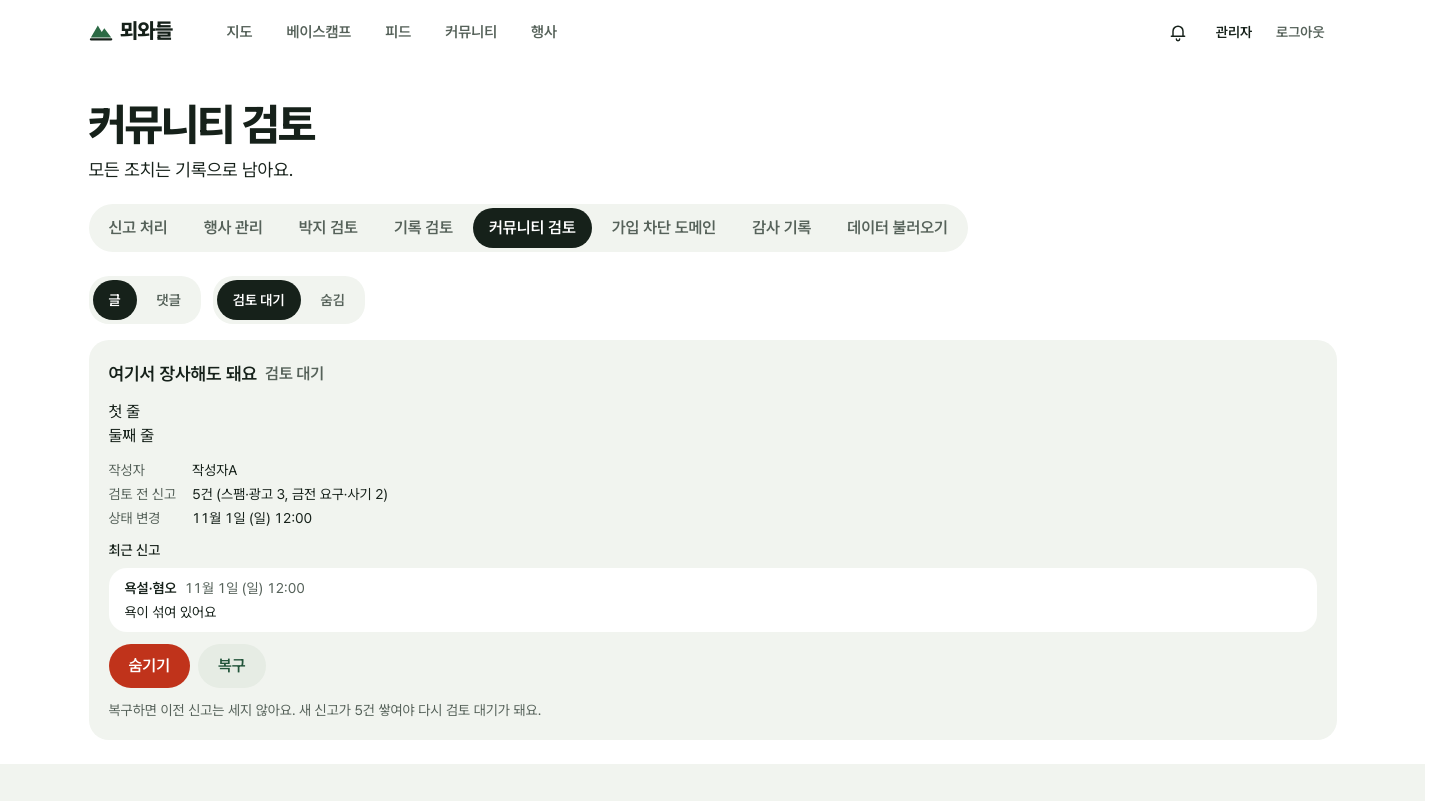
Test case: 관리자 커뮤니티 검토 › 달린 글을 작성자가 지웠으면 링크 없이 그렇게 알린다
The image size is (1440, 801).
What coordinates should you click on to do the following:
click the button "댓글"
I would click on:
 (169, 300)
Its box is [141,280,197,320].
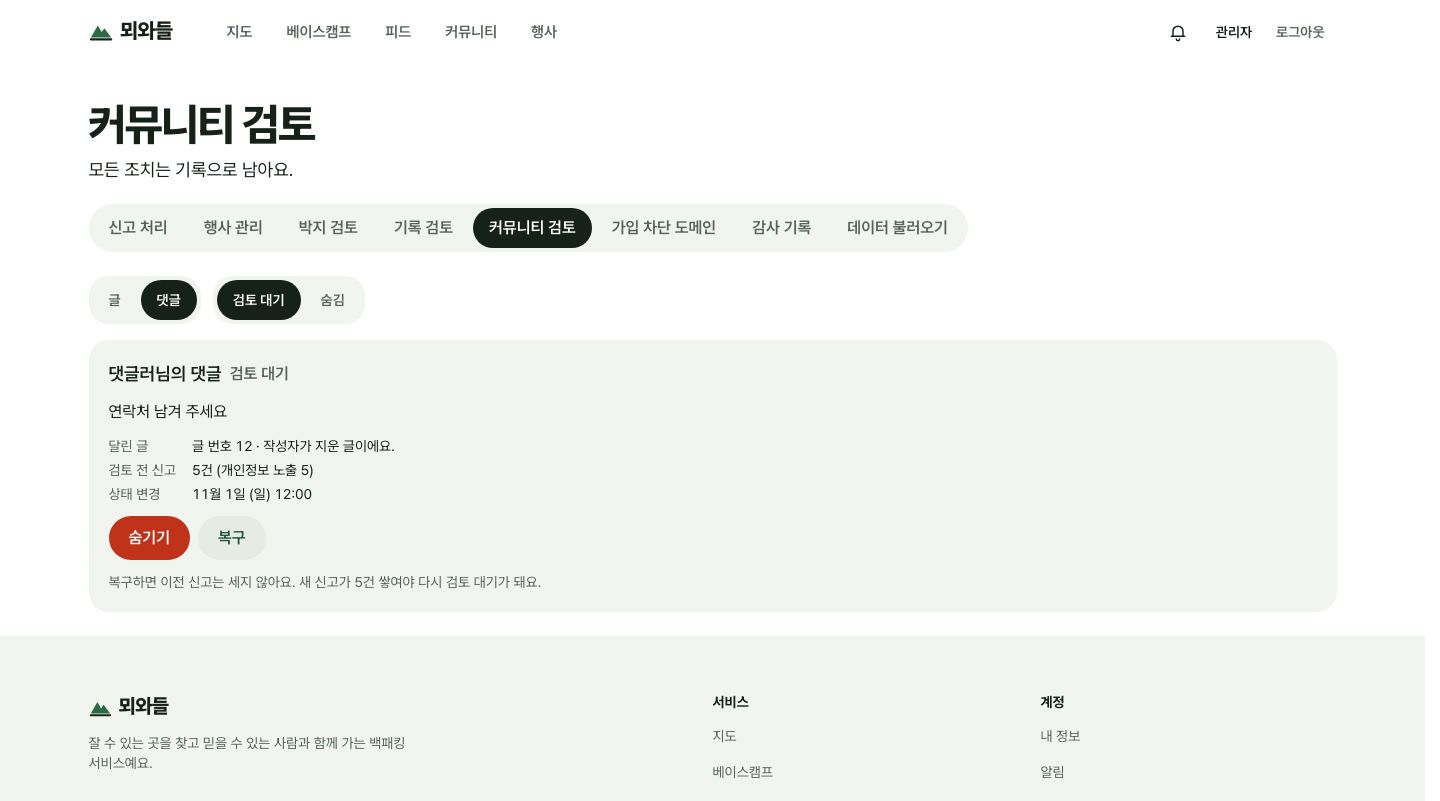
Now the list item shows "작성자가 지운 글이에요.", box [263,438,395,454]
